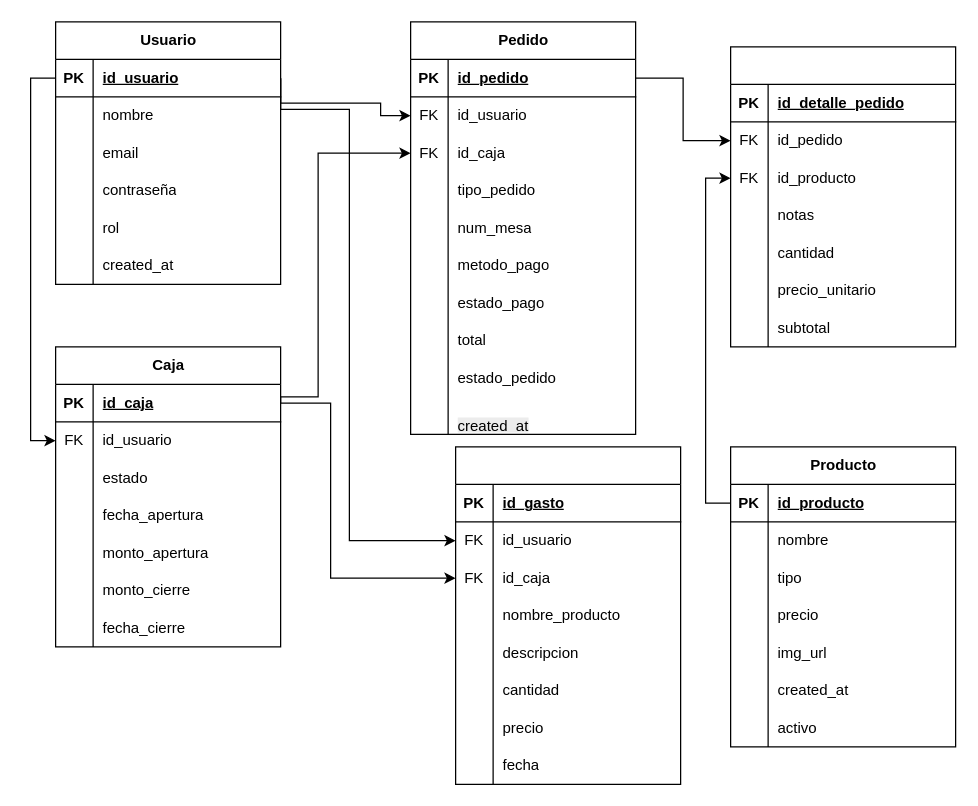
Image size: 978x806. Some labels were removed from this diagram. Each missing label, with the box of its shape:
detalles_pedido: (729, 46, 956, 347)
Gastos: (454, 446, 681, 784)
